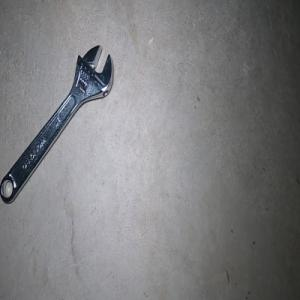Wrench: (0, 44, 113, 203)
